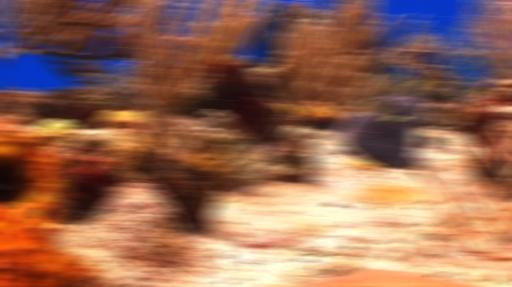Fish: (360, 99, 391, 116), (406, 79, 433, 91), (279, 104, 294, 115), (384, 115, 405, 122), (262, 5, 272, 12), (212, 43, 220, 48)
